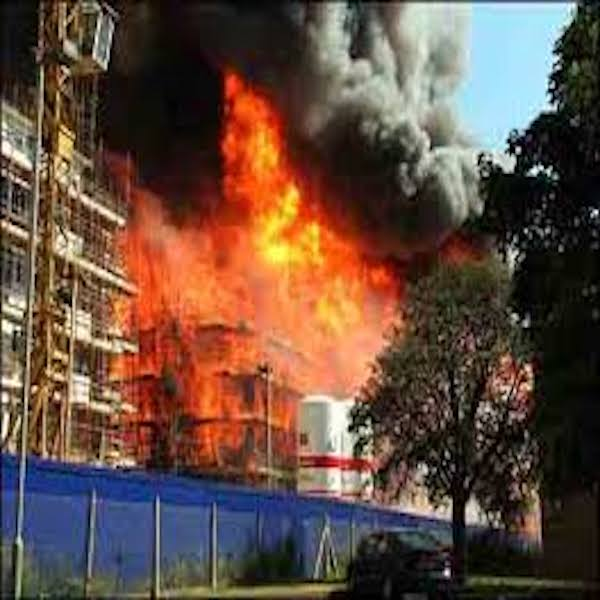fire: (137, 60, 386, 376), (137, 391, 290, 478)
